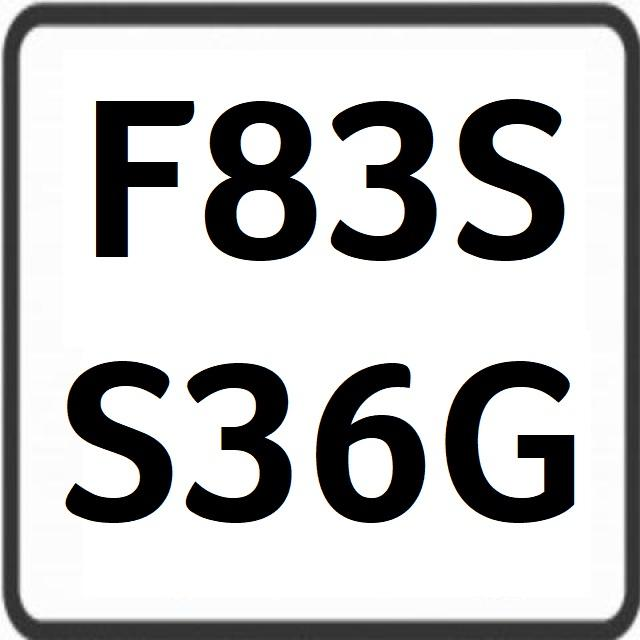3: (181, 351, 299, 533), (328, 90, 443, 270)
6: (309, 338, 427, 531)
8: (205, 85, 321, 268)
F: (84, 73, 202, 271)
G: (442, 355, 583, 544)
S: (458, 75, 576, 263), (59, 342, 178, 528)
